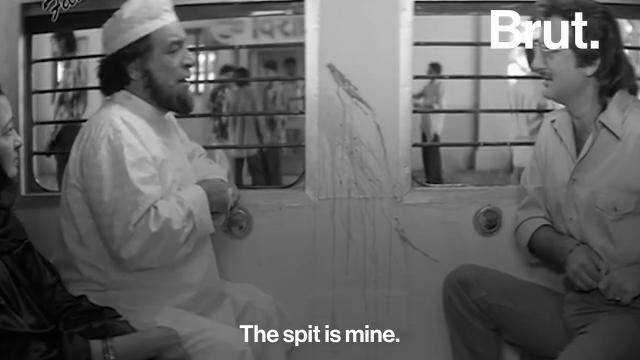spit: (310, 53, 442, 257)
